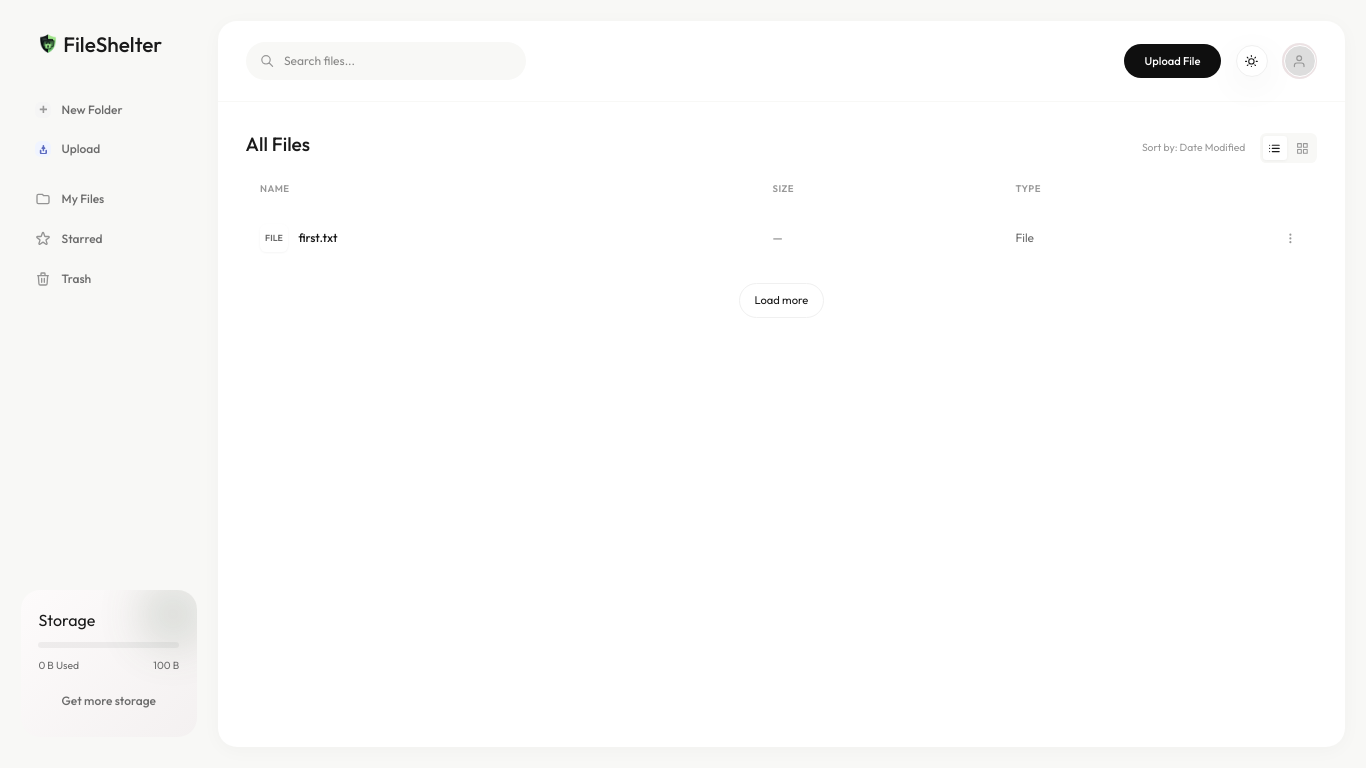
Scenario: drive critical flows › appends a cursor page without dropping the first page
This screenshot has width=1366, height=768.
expect the text "first.txt" is shown: met, box [298,229,338,247]
Click the button "Load more" at coordinates (781, 301), box [739,283,824,318]
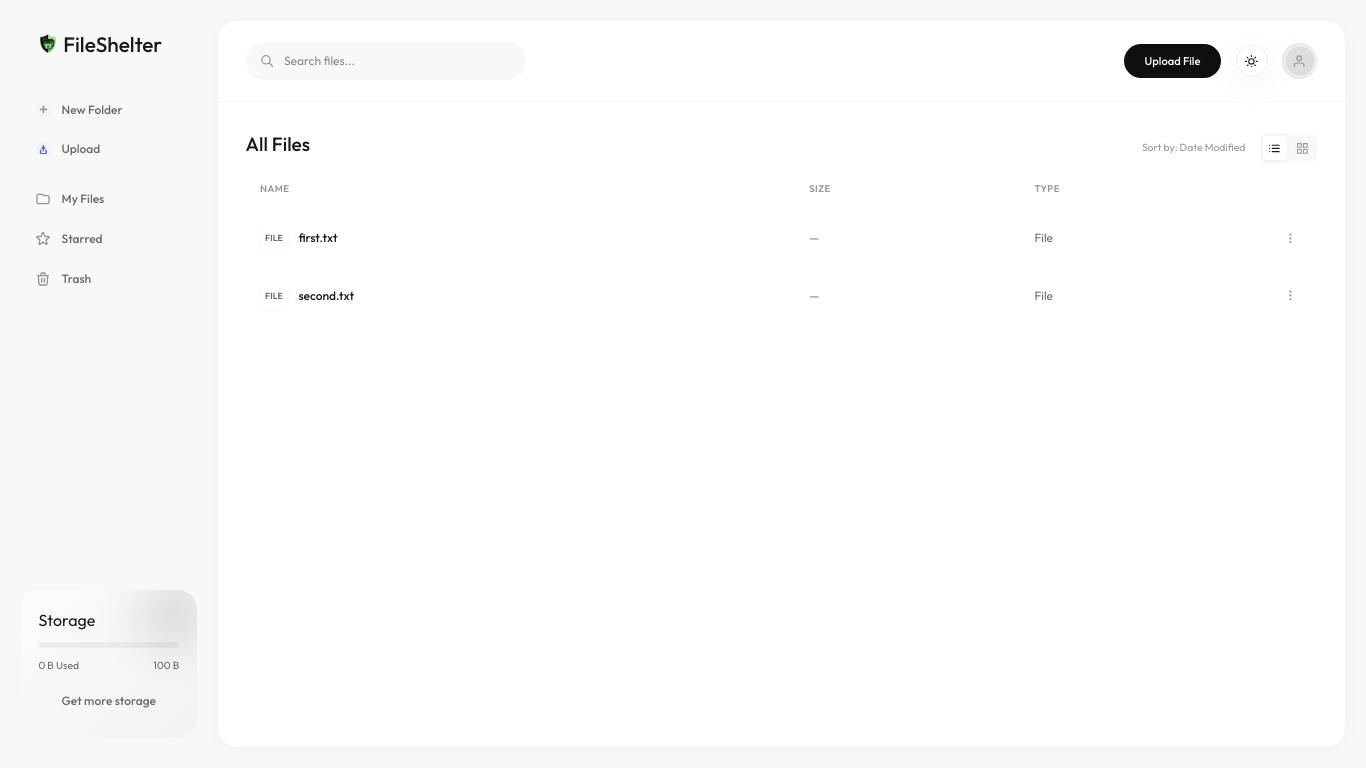
expect the text "first.txt" is shown: met, box [298,229,338,247]
expect the text "second.txt" is shown: met, box [298,287,354,305]
expect the button "Load more" is gone: met
